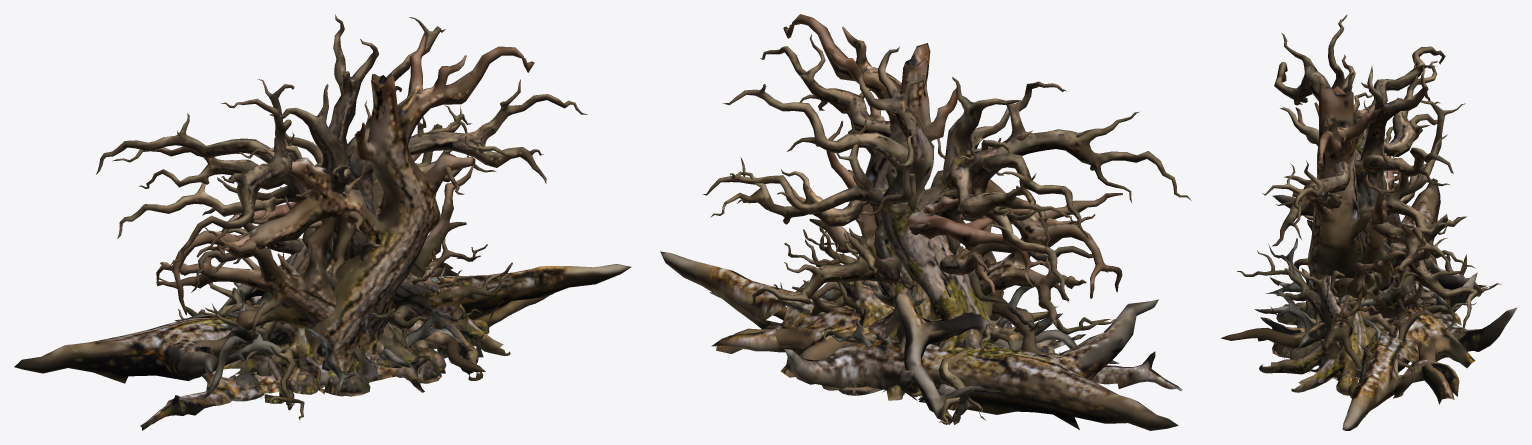
Rendered from kit-dead-trees.glb.
3 views of the same model, side by side, from view 1: azimuth 30°, elevation 25°; view 2: azimuth 150°, elevation 25°; view 3: azimuth 270°, elevation 25° (orthographic). The views are drawn at different scales.
Visible parts, largest first — view 1: tree_06_tall, tree_02_standard_front, tree_11_fallen, tree_07_uprooted, tree_03_standard_side, tree_09_tall_b, tree_01_standard, tree_12_branches, tree_14_thorn_bush, tree_10_uprooted_b, tree_13_roots, tree_05_hooked; view 2: tree_11_fallen, tree_02_standard_front, tree_06_tall, tree_03_standard_side, tree_13_roots, tree_09_tall_b, tree_07_uprooted, tree_01_standard, tree_05_hooked, tree_10_uprooted_b, tree_12_branches, tree_14_thorn_bush; view 3: tree_02_standard_front, tree_11_fallen, tree_06_tall, tree_09_tall_b, tree_03_standard_side, tree_13_roots, tree_01_standard, tree_05_hooked, tree_10_uprooted_b, tree_07_uprooted, tree_14_thorn_bush, tree_12_branches.
Boxes of the visible parts, x1,y1,x2,y2 form: tree_06_tall: (156,32,534,373); tree_02_standard_front: (96,14,587,403); tree_11_fallen: (14,260,631,383); tree_07_uprooted: (156,160,512,353); tree_03_standard_side: (112,84,471,396); tree_09_tall_b: (191,187,510,380); tree_01_standard: (117,105,517,394); tree_12_branches: (140,293,553,430); tree_14_thorn_bush: (211,252,485,394); tree_10_uprooted_b: (178,235,482,419); tree_13_roots: (174,259,496,399); tree_05_hooked: (196,116,426,357); tree_11_fallen: (660,251,1178,430); tree_02_standard_front: (722,34,1191,410); tree_06_tall: (783,14,1122,298); tree_03_standard_side: (702,77,1075,402); tree_13_roots: (716,280,1119,424); tree_09_tall_b: (743,222,1107,306); tree_07_uprooted: (764,138,1095,355); tree_01_standard: (710,87,1068,390); tree_05_hooked: (792,121,1048,319); tree_10_uprooted_b: (816,228,1115,424); tree_12_branches: (709,292,1182,424); tree_14_thorn_bush: (804,282,1044,407); tree_02_standard_front: (1272,14,1465,358); tree_11_fallen: (1221,178,1517,430); tree_06_tall: (1292,83,1383,319); tree_09_tall_b: (1259,164,1478,398); tree_03_standard_side: (1276,54,1461,327); tree_13_roots: (1254,255,1483,404); tree_01_standard: (1262,92,1475,359); tree_05_hooked: (1307,139,1406,337); tree_10_uprooted_b: (1237,227,1501,361); tree_07_uprooted: (1292,182,1440,380); tree_14_thorn_bush: (1265,238,1466,372); tree_12_branches: (1257,220,1486,417).
Size of the model in its own units: 6.86 by 3.61 by 3.45.
Materials: 3 (3 with a texture image).
